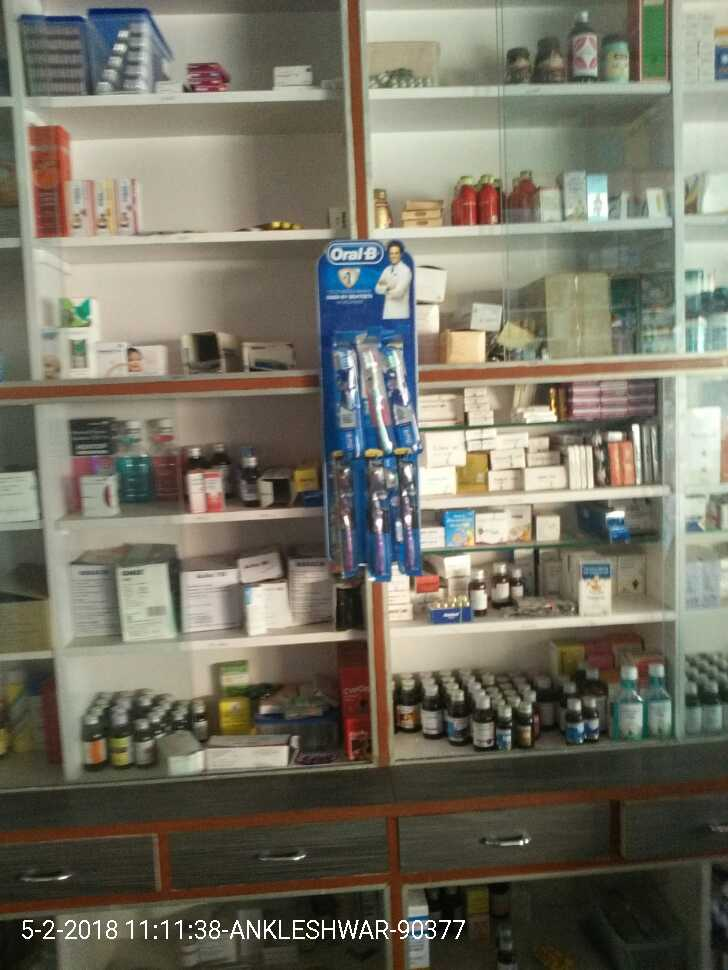oralb: (383, 461, 432, 569), (350, 343, 390, 453), (324, 458, 361, 571), (393, 343, 420, 451), (364, 455, 389, 571), (339, 355, 363, 444)
